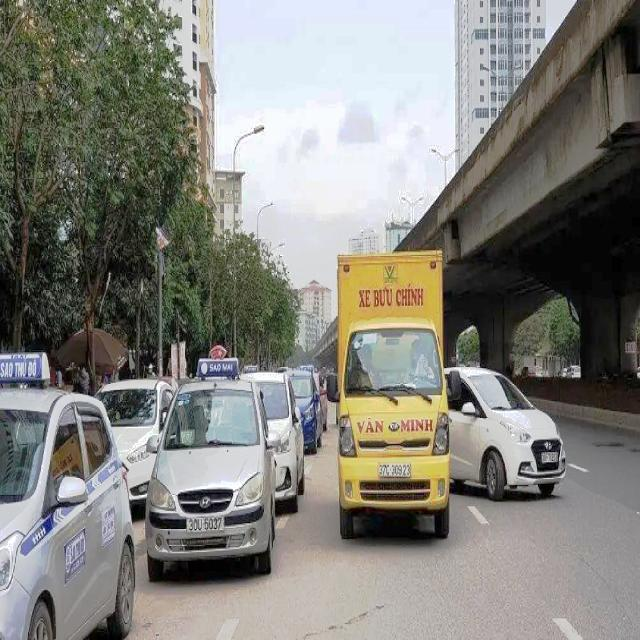Car: (0, 351, 136, 639), (336, 245, 450, 538), (144, 357, 277, 582), (444, 364, 566, 500), (92, 377, 178, 511), (239, 371, 305, 513), (276, 367, 322, 454), (299, 364, 328, 432), (560, 365, 580, 378)
